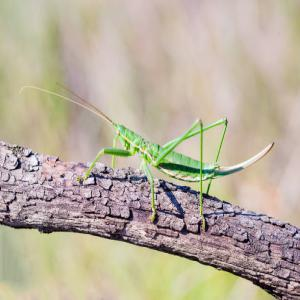locust: (59, 87, 272, 220)
